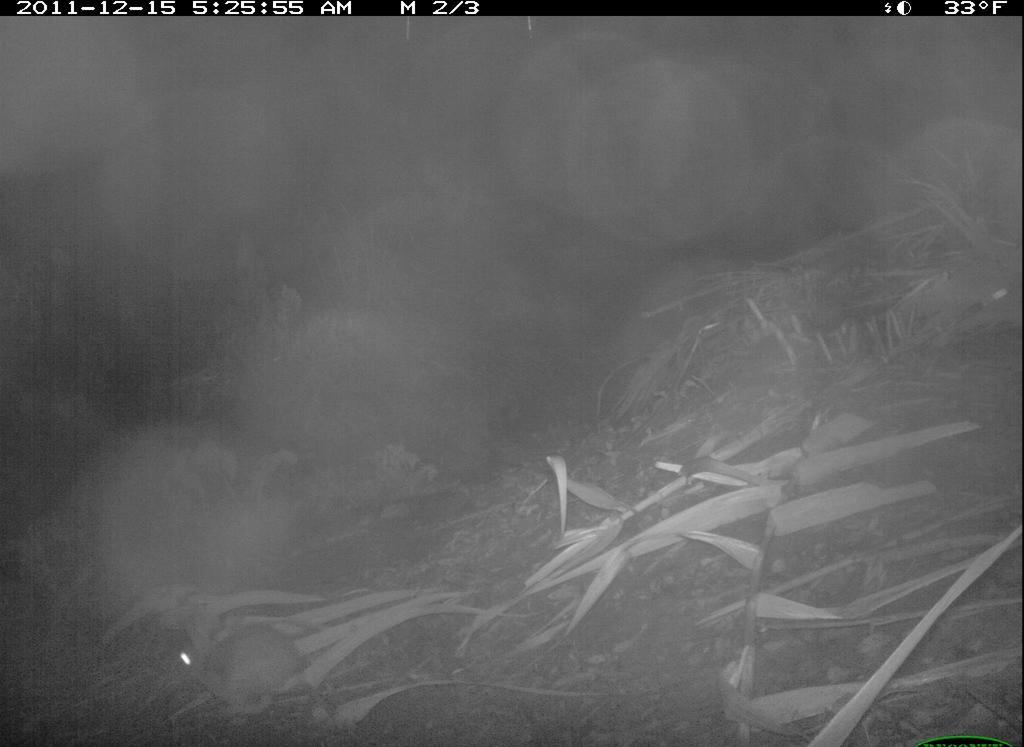rabbit: (168, 606, 310, 720)
